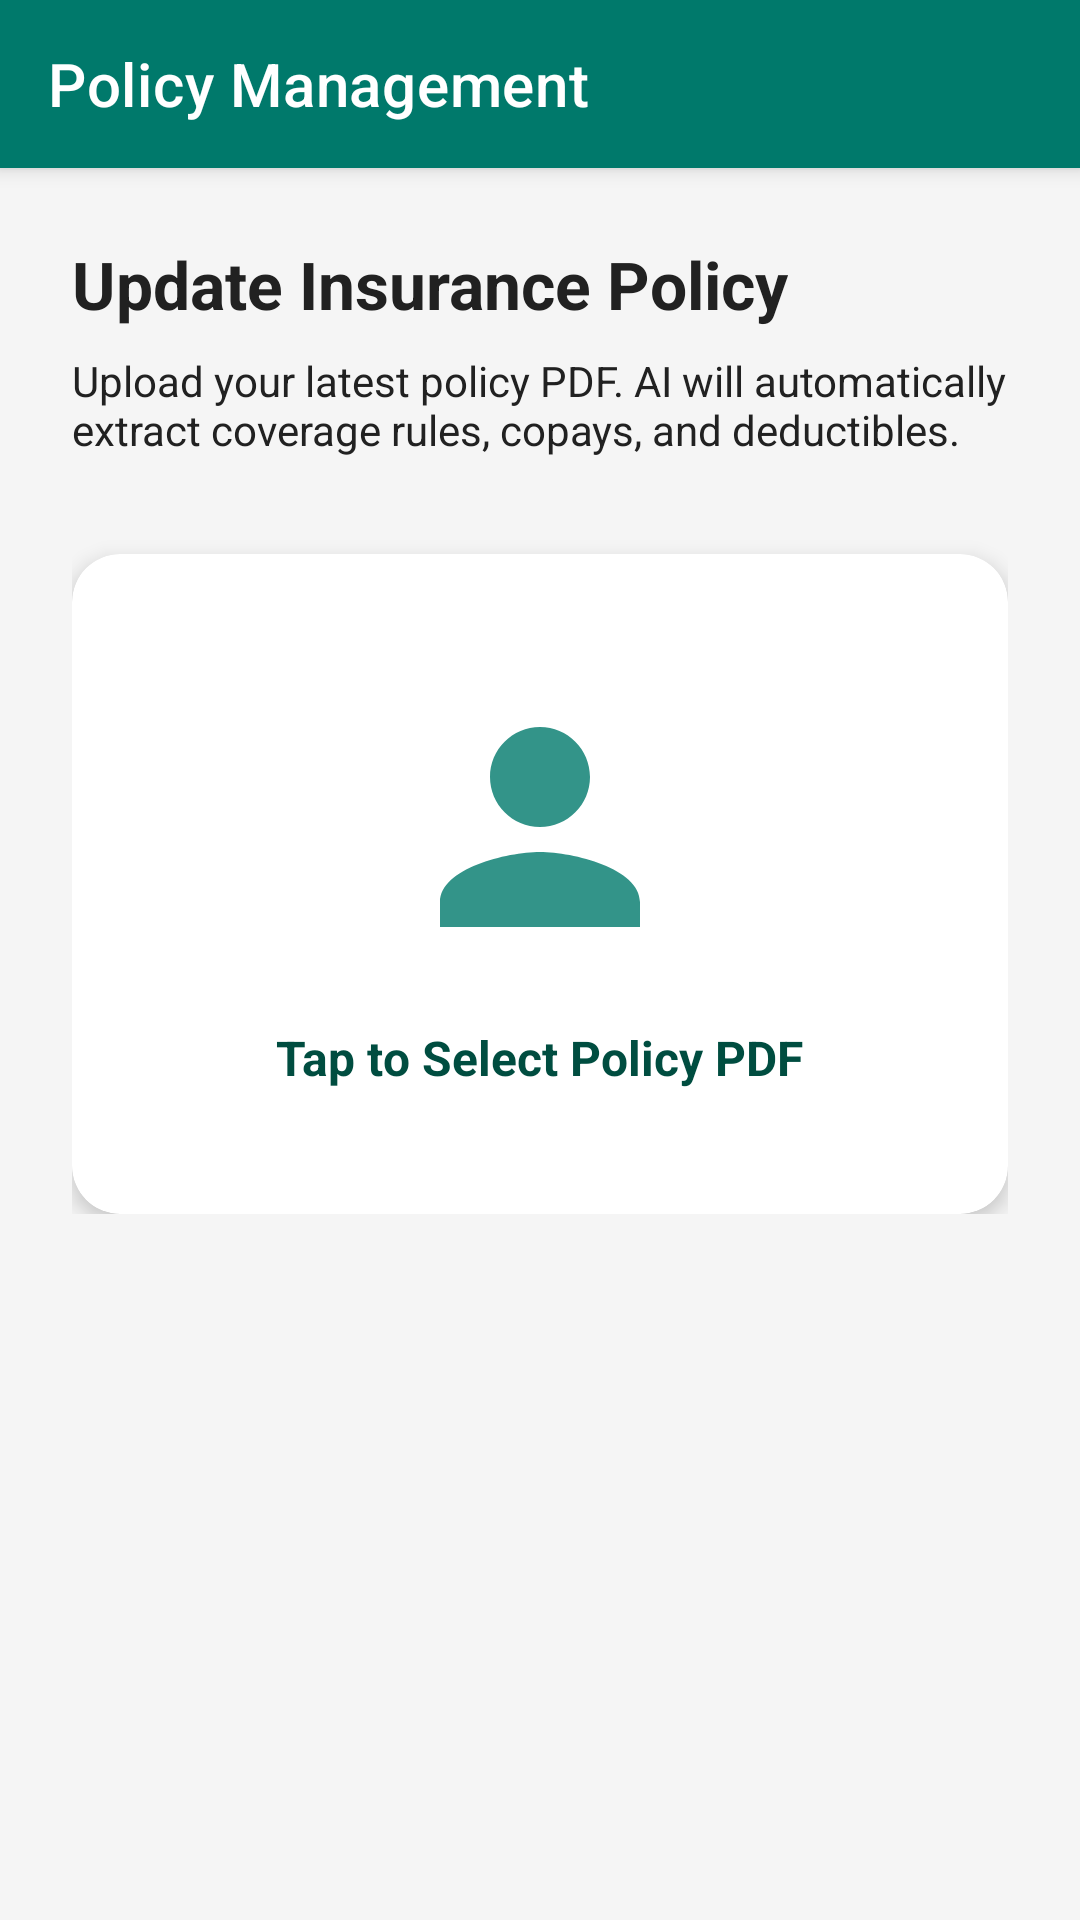

Icons on this 1080 x 1920 Android screen, each with the point to tap as point (x, y):
profile: point (540, 827)
